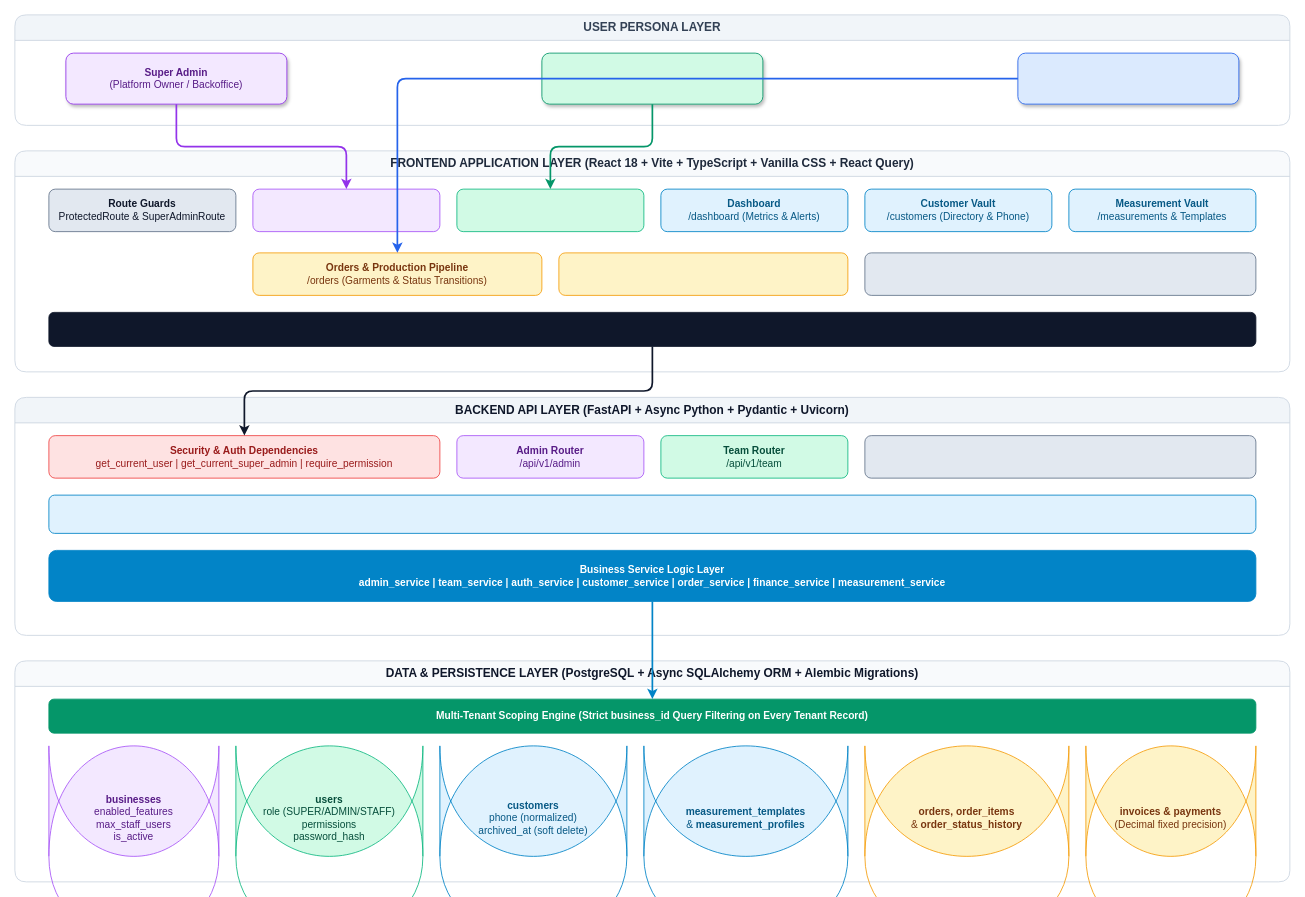
Some shapes in this 1305 by 897 pixel diagram are drawn without their labels. The shapes that lost their labels are listed below. From the top down, each one's centre as x and y in pixels, then its label:
At (x=653, y=79): "Business Admin (Tailoring House Owner)".
At (x=1129, y=79): "Staff User (Tailor / Cutter / Sales Rep)".
At (x=346, y=210): "Super Admin Portal /admin (KPIs & Entitlements)".
At (x=550, y=210): "Team & RBAC Page /team (Staff & Permissions)".
At (x=703, y=273): "Invoices & Payments /invoices (Decimal Financials & Receipts)".
At (x=1060, y=273): "Profile & Password Management /profile (Branding Logo & Security)".
At (x=652, y=329): "HTTP Client (Axios + Credentials Cookie Handler)".
At (x=1060, y=456): "Auth & Business Router /api/v1/auth | /api/v1/business".
At (x=652, y=513): "Domain API Routers /customers | /measurements | /orders | /finances | /dashboard".
